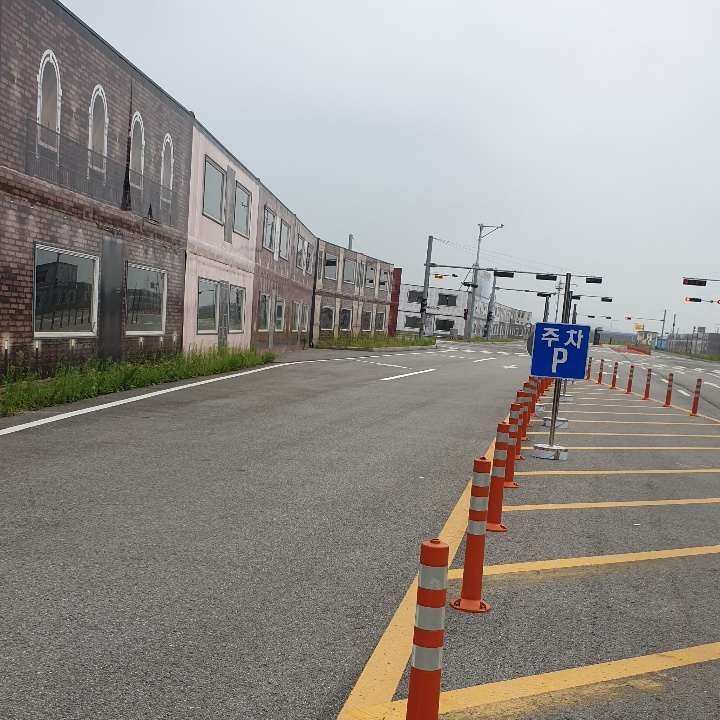parking: (543, 341, 571, 378)
